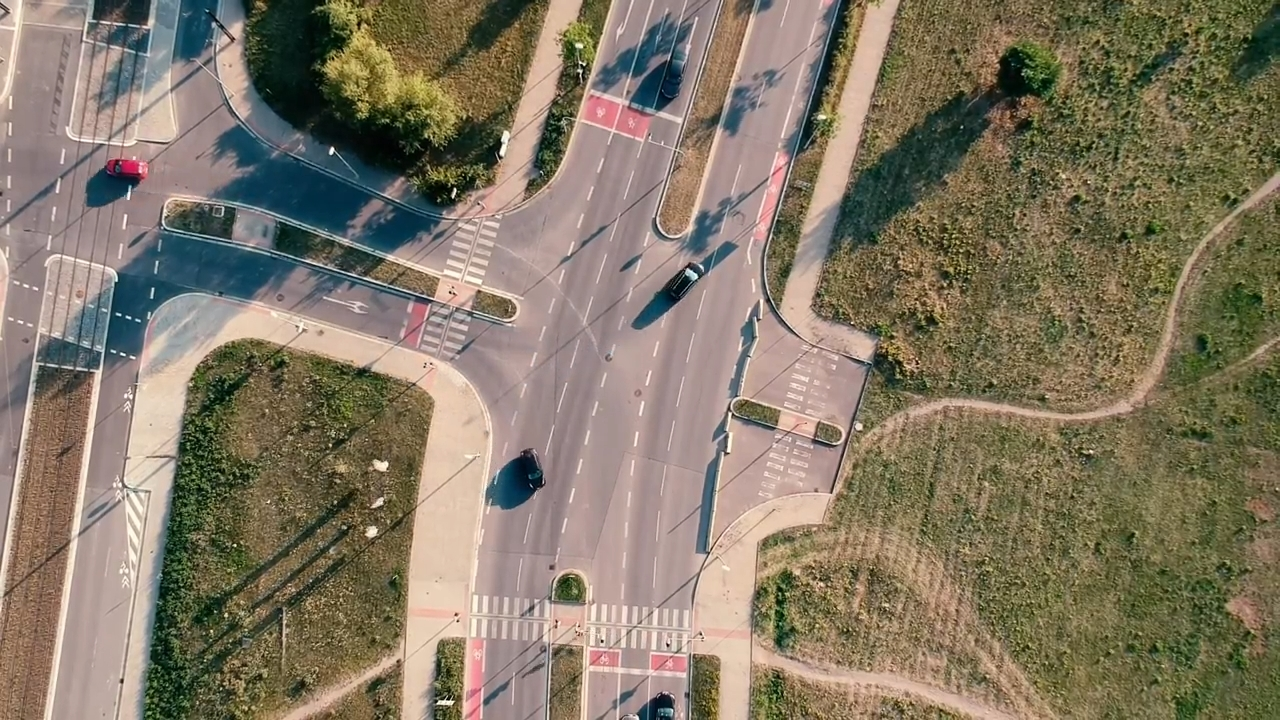car: (667, 260, 704, 303), (520, 448, 552, 492), (661, 48, 687, 101), (106, 156, 149, 179), (655, 691, 677, 720)
